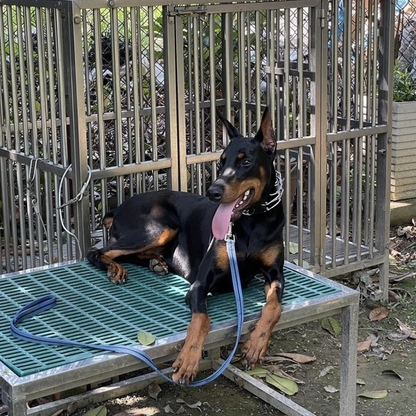doberman: (92, 108, 292, 387)
